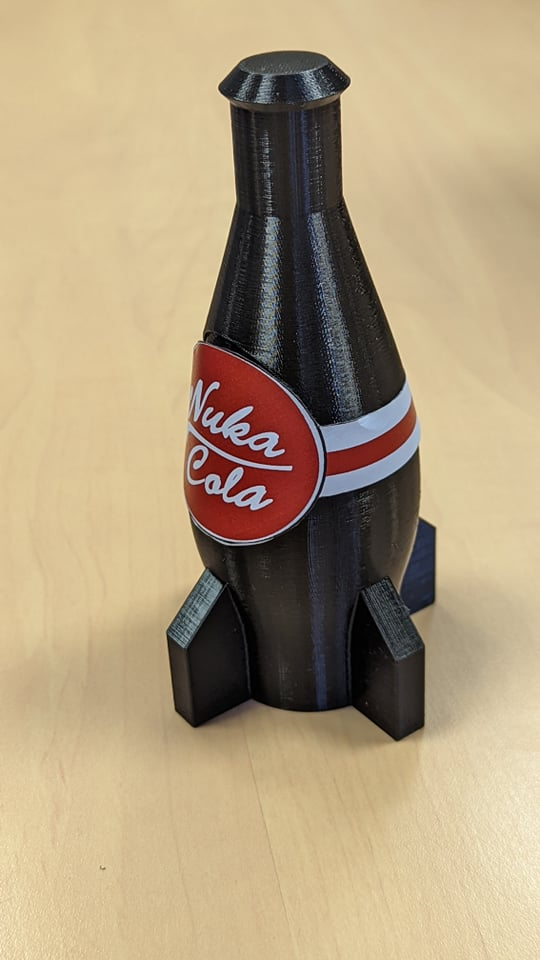bottle: (151, 40, 465, 778)
